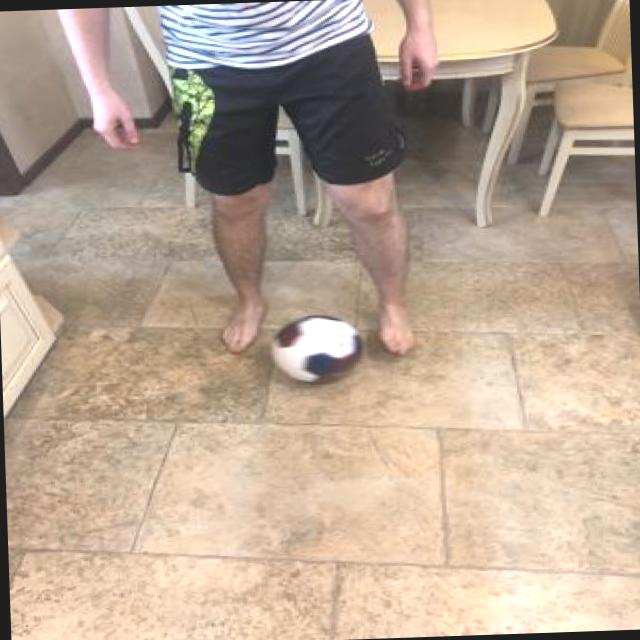Soccer Ball: (266, 309, 364, 384)
